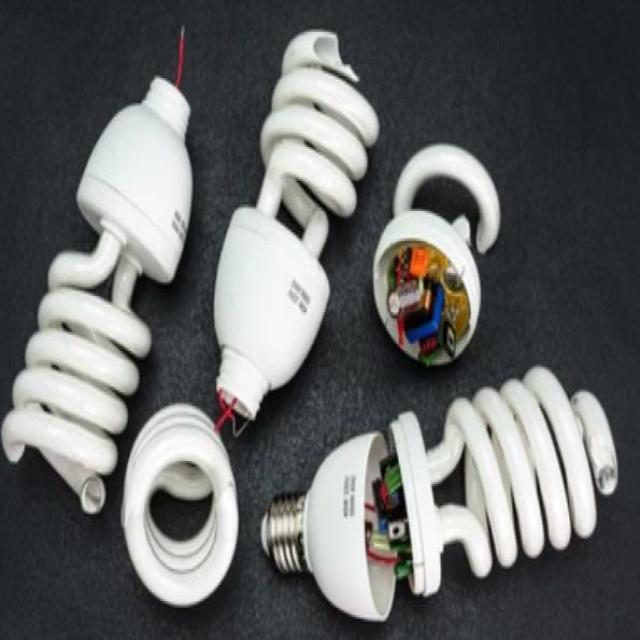electronic: (0, 23, 194, 516), (259, 362, 620, 622), (212, 25, 380, 429), (371, 140, 501, 367), (119, 401, 239, 608)
